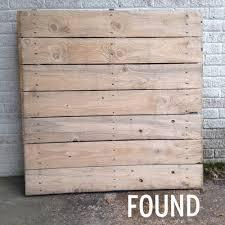wood: (17, 11, 205, 189)
